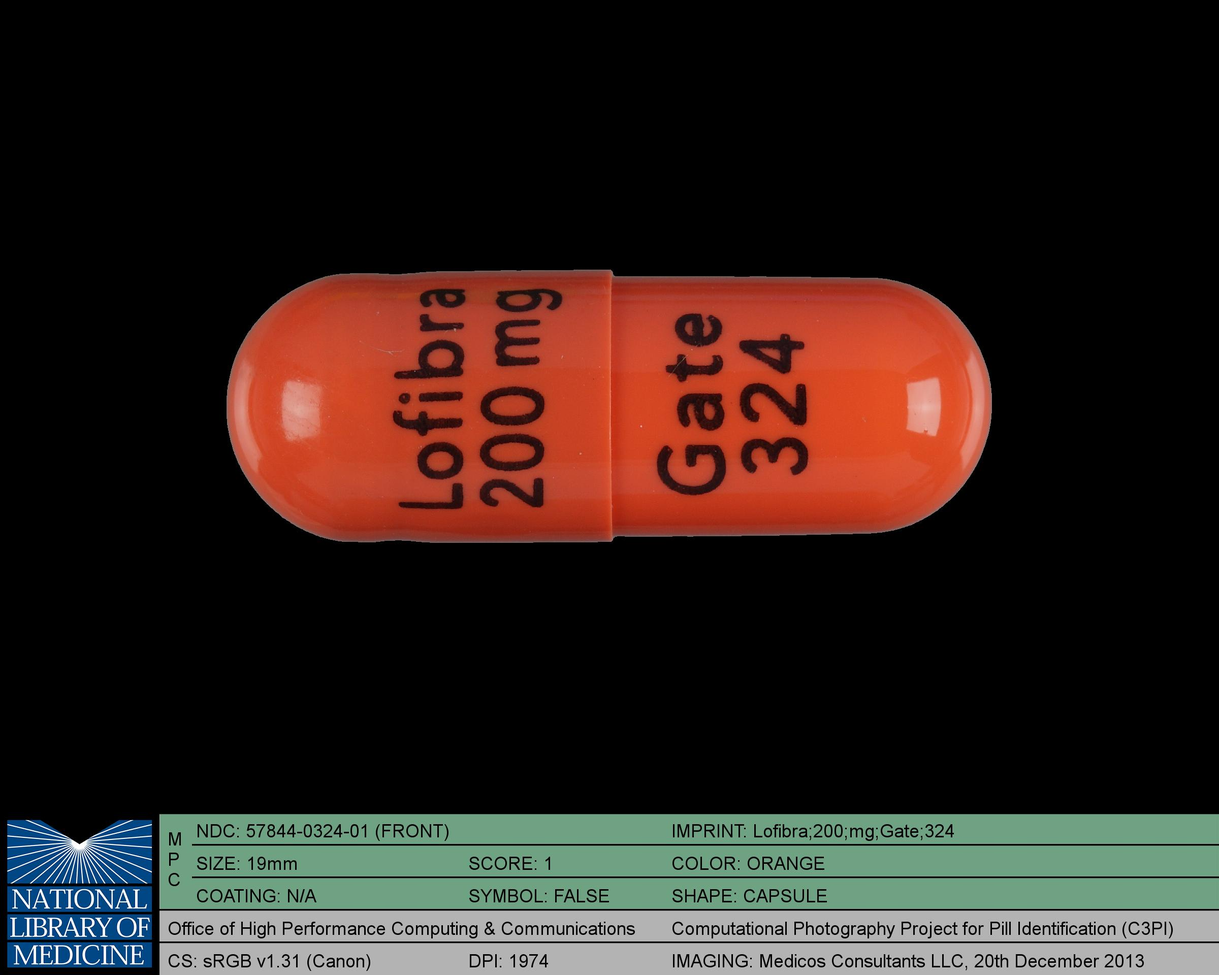Pill: (213, 254, 1006, 557)
